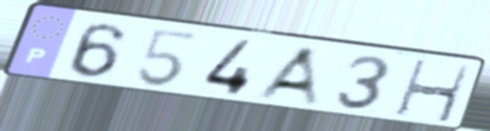3: (333, 54, 397, 112)
4: (198, 37, 254, 98)
5: (132, 26, 203, 90)
6: (66, 21, 132, 82)
A: (251, 44, 324, 110)
H: (391, 58, 474, 125)
